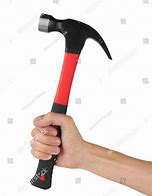hammer: (28, 10, 114, 191)
